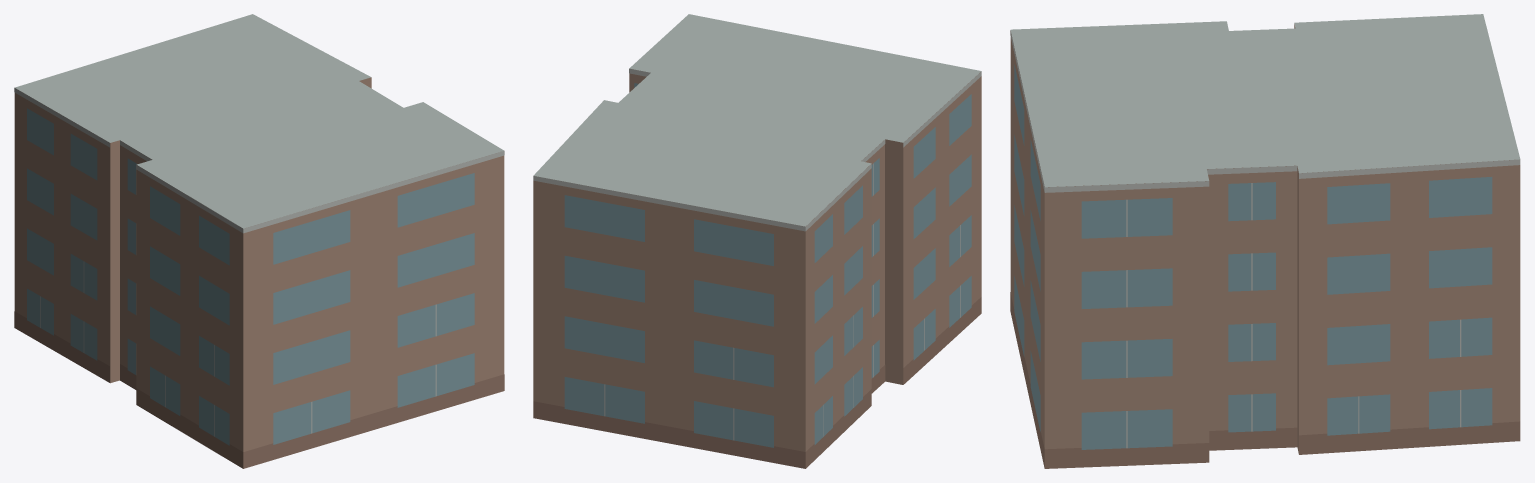
Rendered from survey-upis-32777999.glb.
3 views of the same model, side by side, from view 1: azimuth 30°, elevation 25°; view 2: azimuth 150°, elevation 25°; view 3: azimuth 270°, elevation 25° (orthographic). The views are drawn at different scales.
Visible parts, largest first — view 1: survey-upis-32777999.tmp; view 2: survey-upis-32777999.tmp; view 3: survey-upis-32777999.tmp.
Part boxes in pixels (x1=…): survey-upis-32777999.tmp: x1=14, y1=14, x2=504, y2=468; survey-upis-32777999.tmp: x1=533, y1=14, x2=981, y2=468; survey-upis-32777999.tmp: x1=1010, y1=14, x2=1520, y2=468.
Size of the model in its own units: 16.1 by 12.2 by 20.03.
